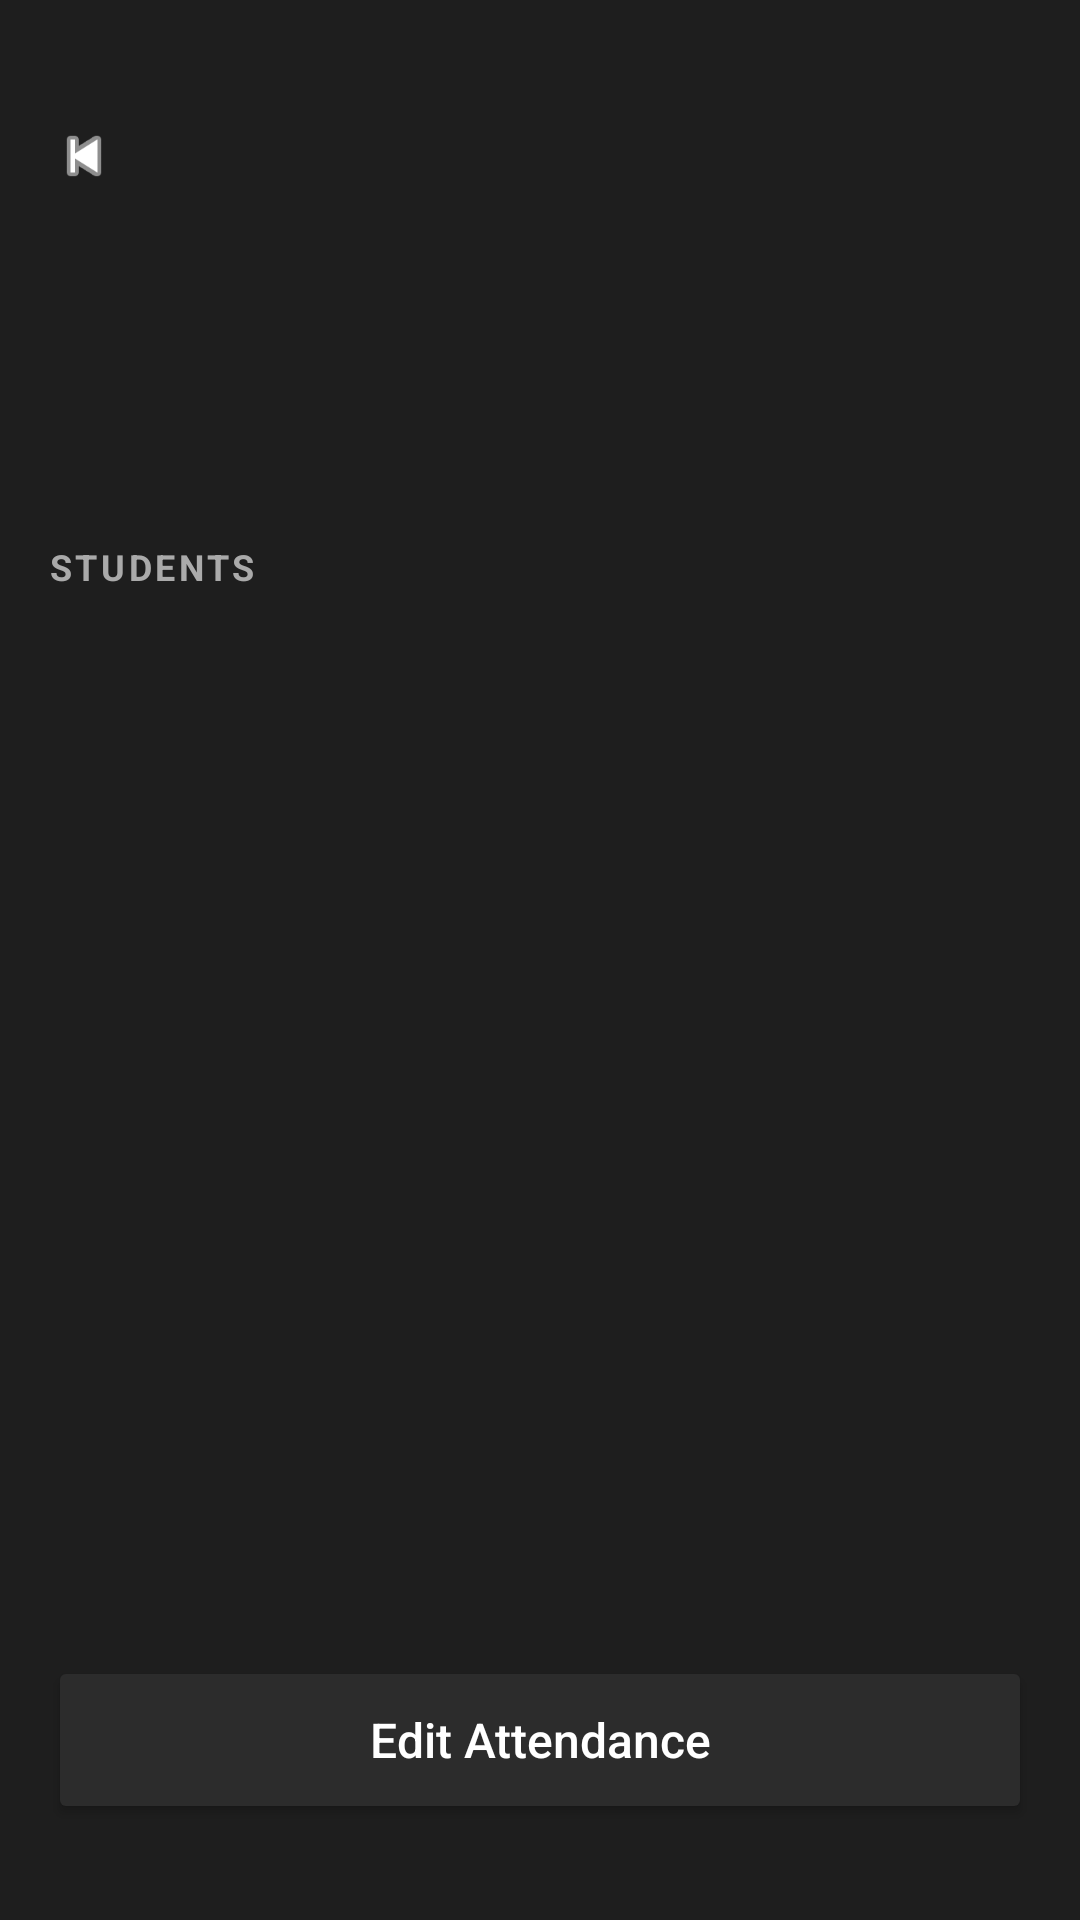

Icon click points for this 1080w x 1920h phone screenshot, format [x,y]:
previous: [84,156]
